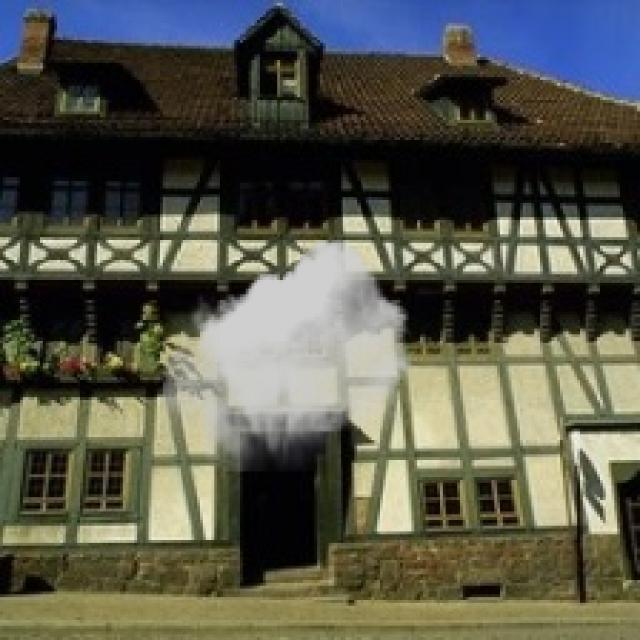Smoke: (162, 239, 412, 472)
